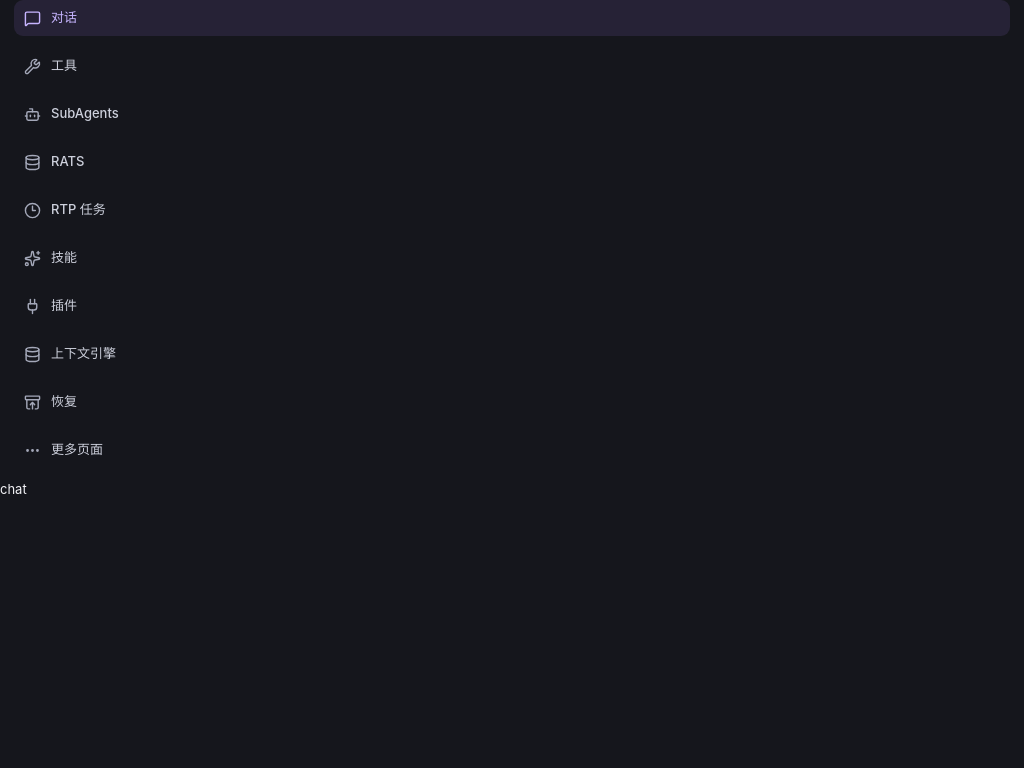
Scenario: opens all pages from the keyboard, pins a page and preserves its selected state
The image size is (1024, 768).
Step 1. Press ArrowDown in the button "更多页面", box x1=14 y1=432 x2=1010 y2=468
(page scrolled)
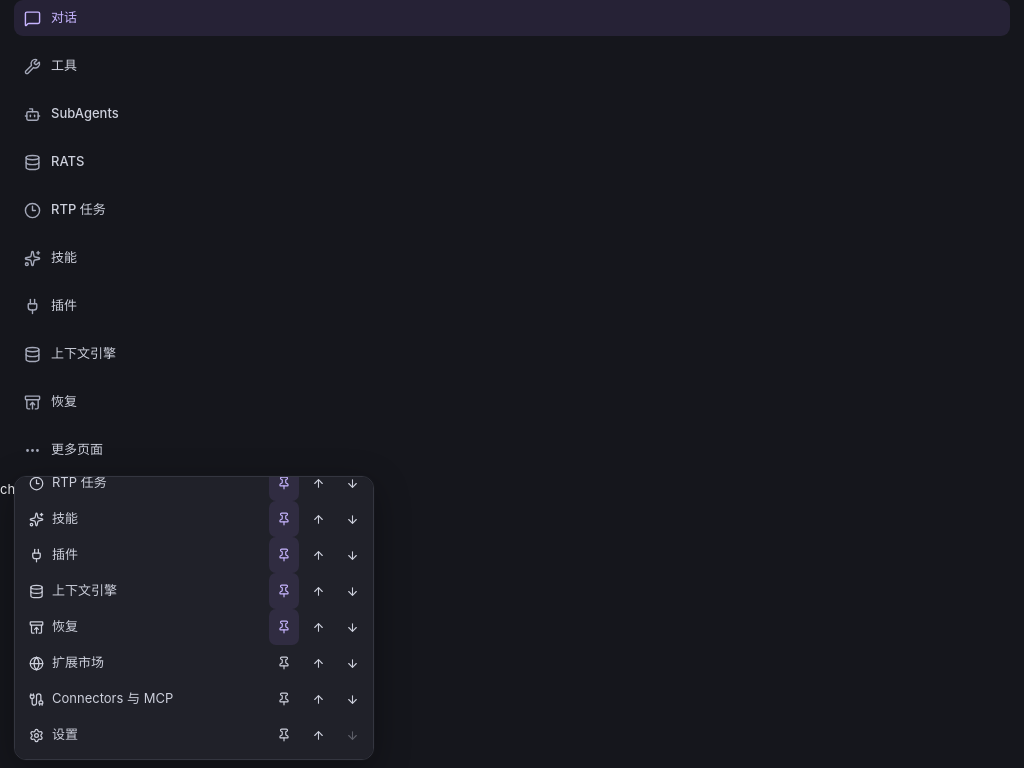
Step 2. Click the button named "固定到侧栏 扩展市场" → [284, 663], box x1=269 y1=645 x2=299 y2=681
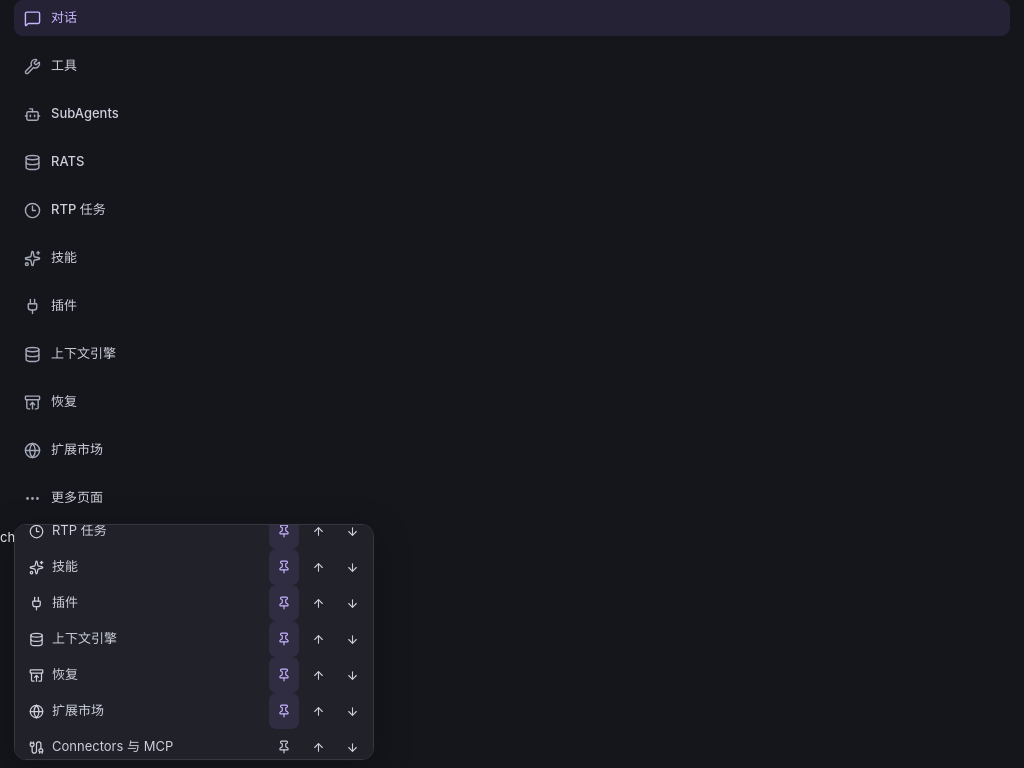
Check: the 1st button "扩展市场" is shown, box x1=14 y1=432 x2=1010 y2=468
Step 3. Click the 2nd button "扩展市场" → [143, 711], box x1=21 y1=693 x2=265 y2=729
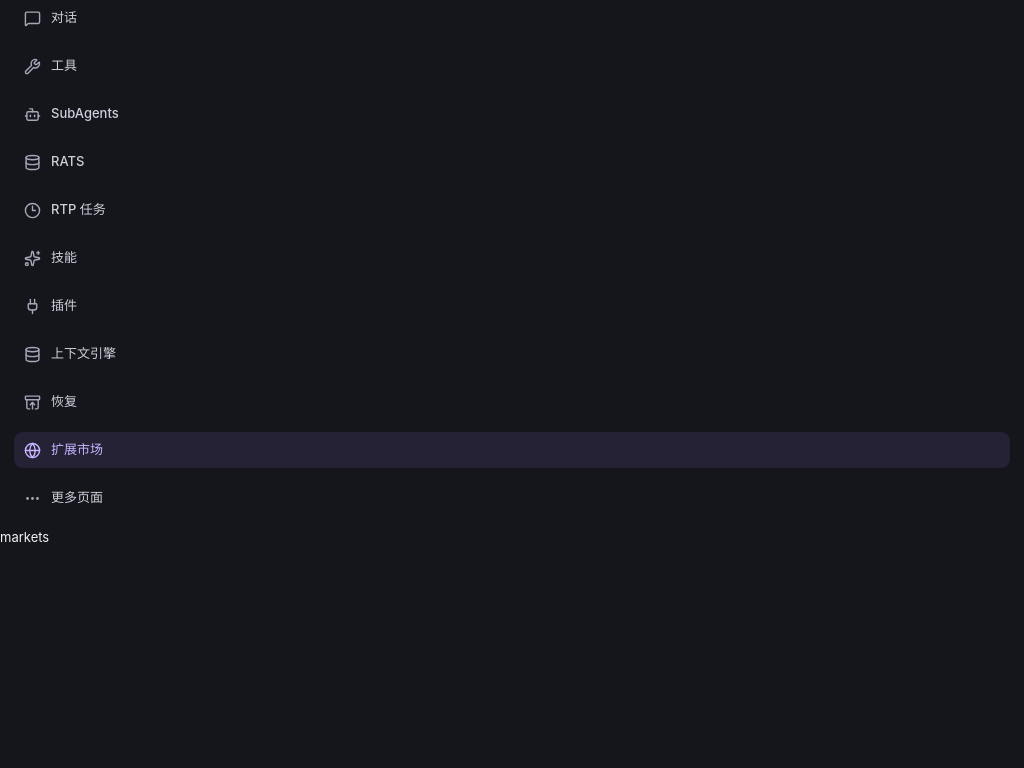
Check: the text "markets" is shown, box x1=0 y1=529 x2=49 y2=545
Check: the dialog is gone
